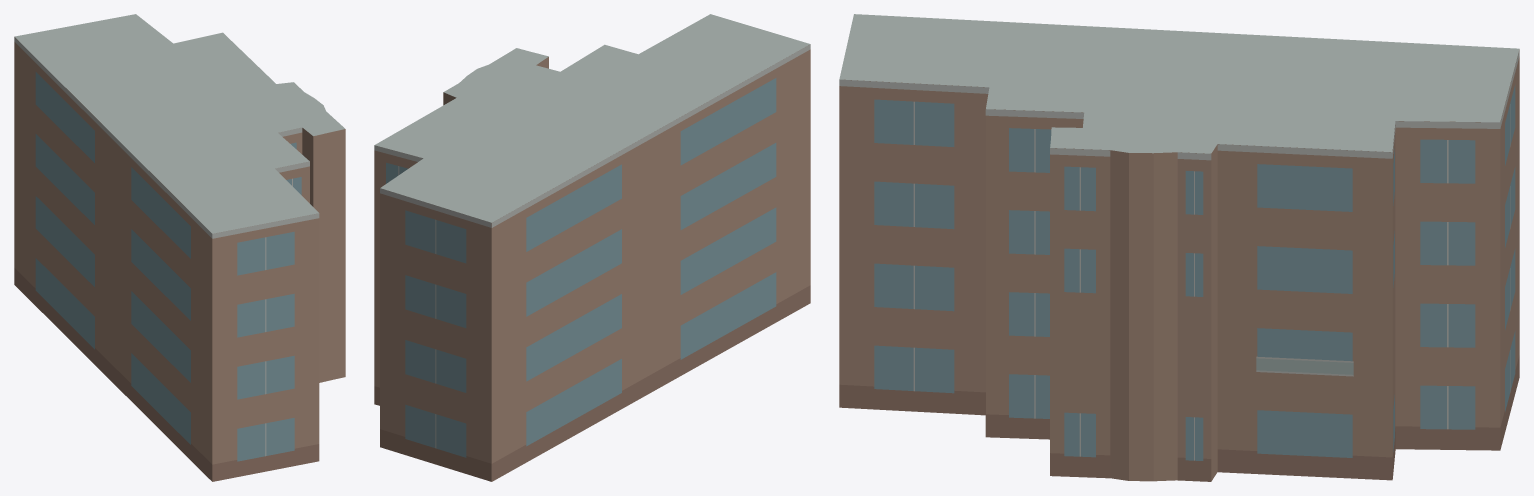
File: survey-upis-32802421.glb
3 views of the same model, side by side, from view 1: azimuth 30°, elevation 25°; view 2: azimuth 150°, elevation 25°; view 3: azimuth 270°, elevation 25° (orthographic). The views are drawn at different scales.
Parts seen in each view (by area): view 1: survey-upis-32802421.tmp; view 2: survey-upis-32802421.tmp; view 3: survey-upis-32802421.tmp.
Part boxes in pixels (left/top/right/bottom): survey-upis-32802421.tmp: left=14, top=14, right=345, bottom=481; survey-upis-32802421.tmp: left=374, top=14, right=810, bottom=481; survey-upis-32802421.tmp: left=839, top=14, right=1519, bottom=481.
Bounding box in the file's own units: 11.06 × 12.1 × 22.75.
